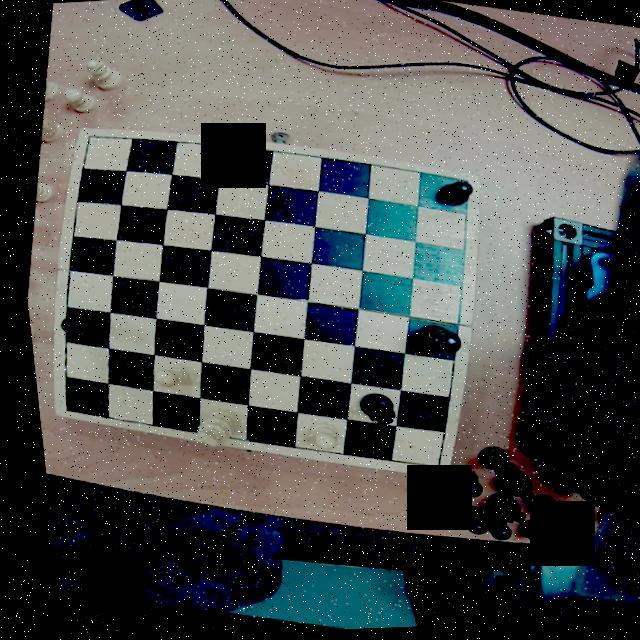chess-table-corners: (444, 174, 474, 200), (44, 398, 75, 421), (414, 454, 442, 478), (71, 130, 97, 153)
